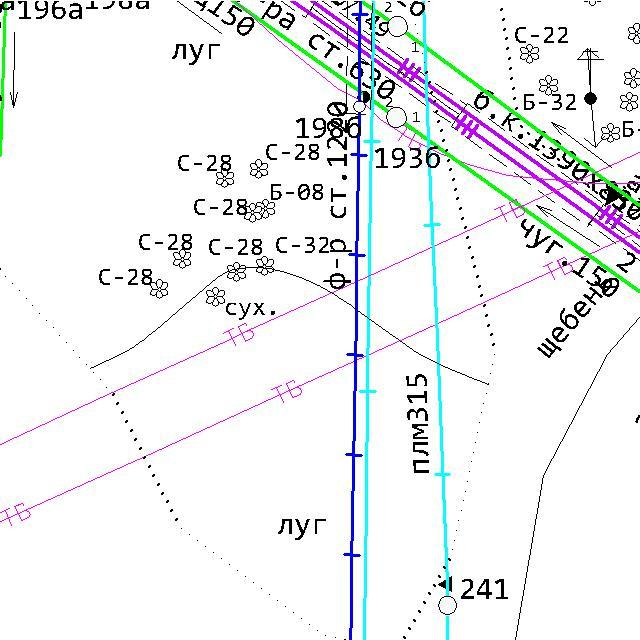bushes: (537, 73, 560, 97), (225, 260, 248, 284), (519, 42, 541, 65), (618, 90, 640, 113), (254, 255, 276, 278), (248, 158, 269, 180), (205, 286, 226, 308), (149, 278, 170, 300), (243, 202, 263, 224), (257, 197, 276, 220), (173, 247, 192, 270), (215, 168, 235, 188)
mark: (604, 185, 621, 209)
well: (384, 104, 409, 130), (386, 14, 410, 38), (436, 594, 460, 617)
